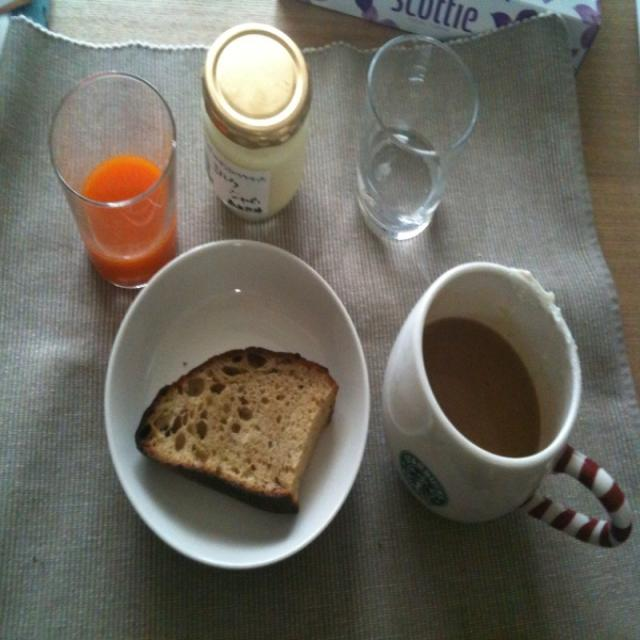面包点心: (108, 230, 368, 556)
